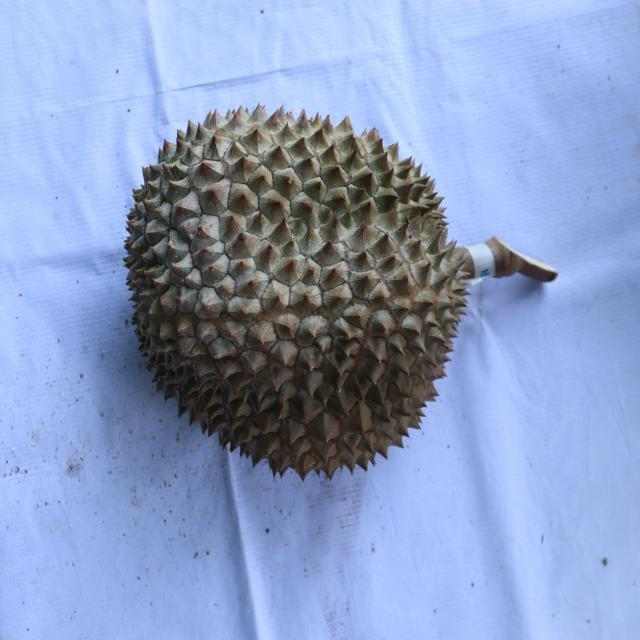mature: (121, 102, 471, 480)
